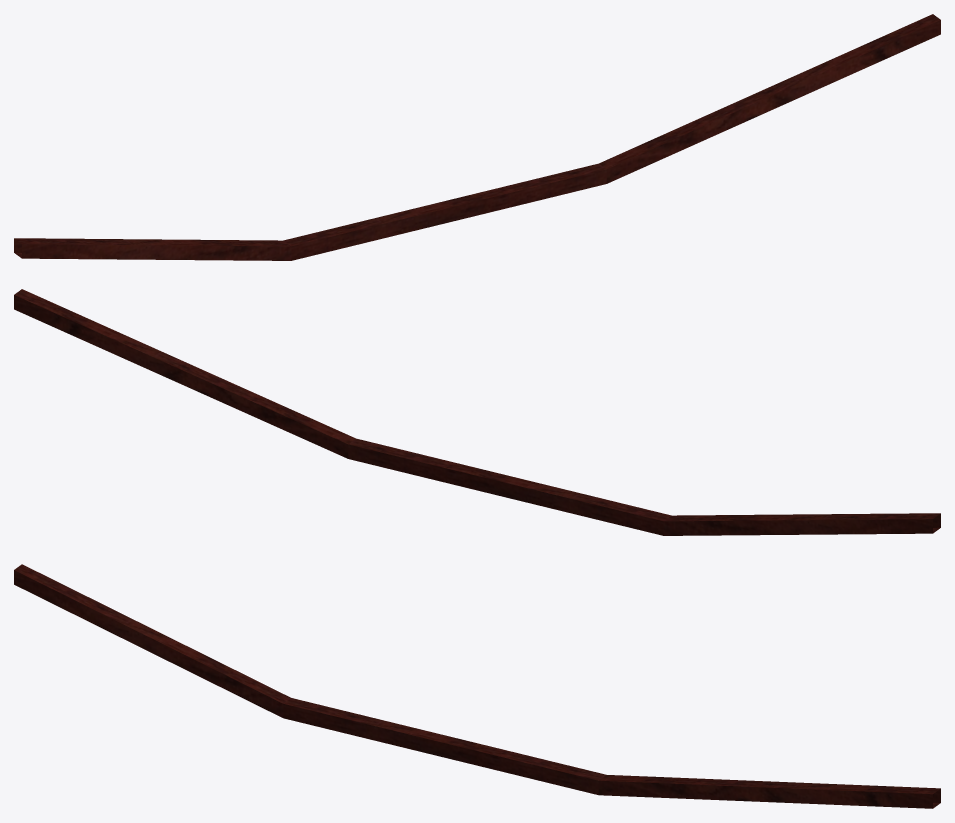
Rendered from Rope.gltf.
The picture shows the model from 3 angles, top to bottom: view 1: azimuth 30°, elevation 25°; view 2: azimuth 150°, elevation 25°; view 3: azimuth 330°, elevation 25°; orthographic projection.
Parts seen in each view (by area): view 1: Rope; view 2: Rope; view 3: Rope.
Boxes of the visible parts, x1,y1,x2,y2 form: Rope: [14, 14, 940, 260]; Rope: [14, 289, 940, 535]; Rope: [14, 564, 940, 808].
Bounding box in the file's own units: 12.38 × 1.06 × 0.1875.
Materials: 1 (1 with a texture image).
